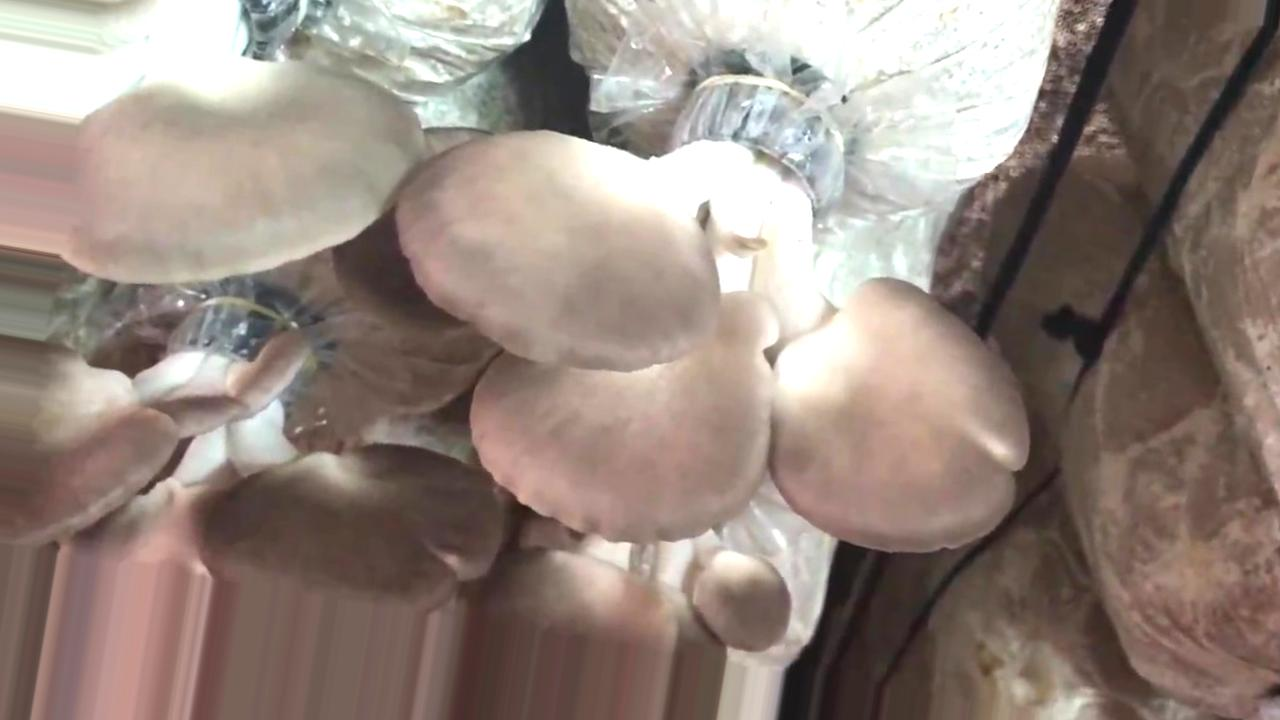nam: (403, 80, 1031, 548), (4, 300, 506, 720), (1, 2, 425, 282), (455, 530, 791, 720)
